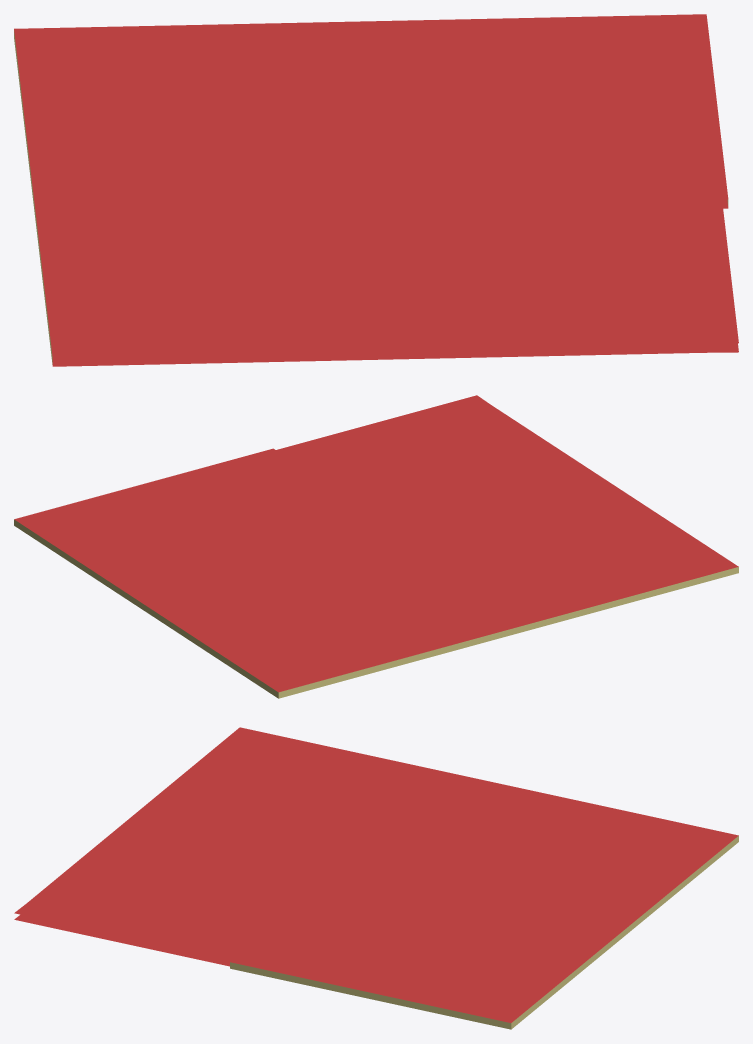
3 renders of one model, top to bottom at view 1: azimuth 30°, elevation 25°; view 2: azimuth 150°, elevation 25°; view 3: azimuth 270°, elevation 25°, orthographic. The views are drawn at different scales.
Size of the model in its own units: 9.79 by 10.13 by 0.1.
